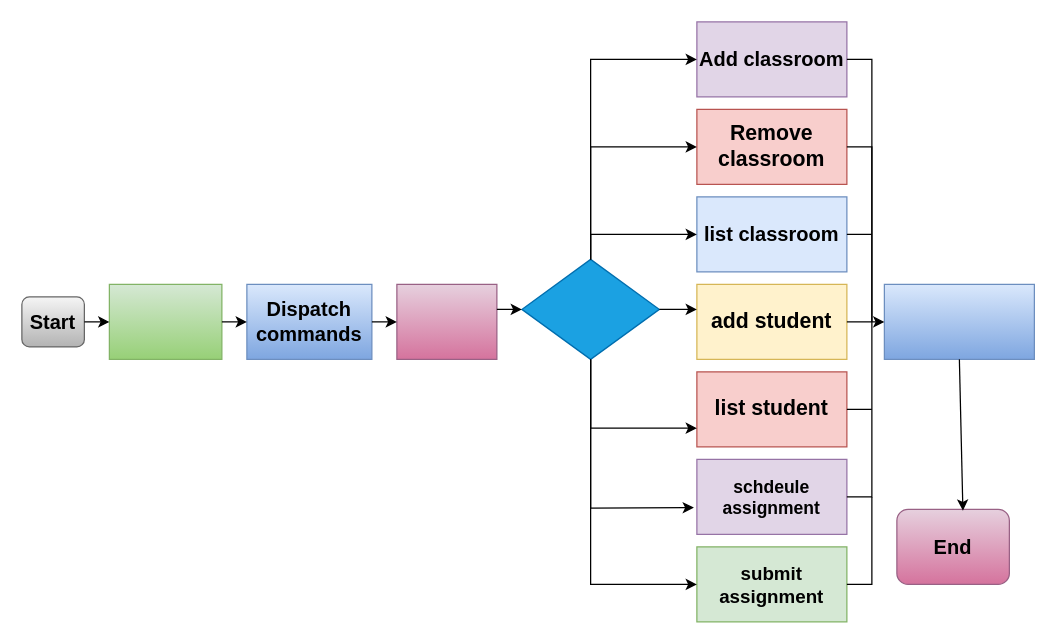
This 1056x644 diagram has some shape labels left out. The shapes that lost their labels are listed below. From the top down, each one's centre as x and y in pixels, then its label:
At point (165, 321): "Initialize scanner".
At point (446, 321): "Read user input".
At point (590, 308): "Parse command".
At point (958, 321): "exit".
